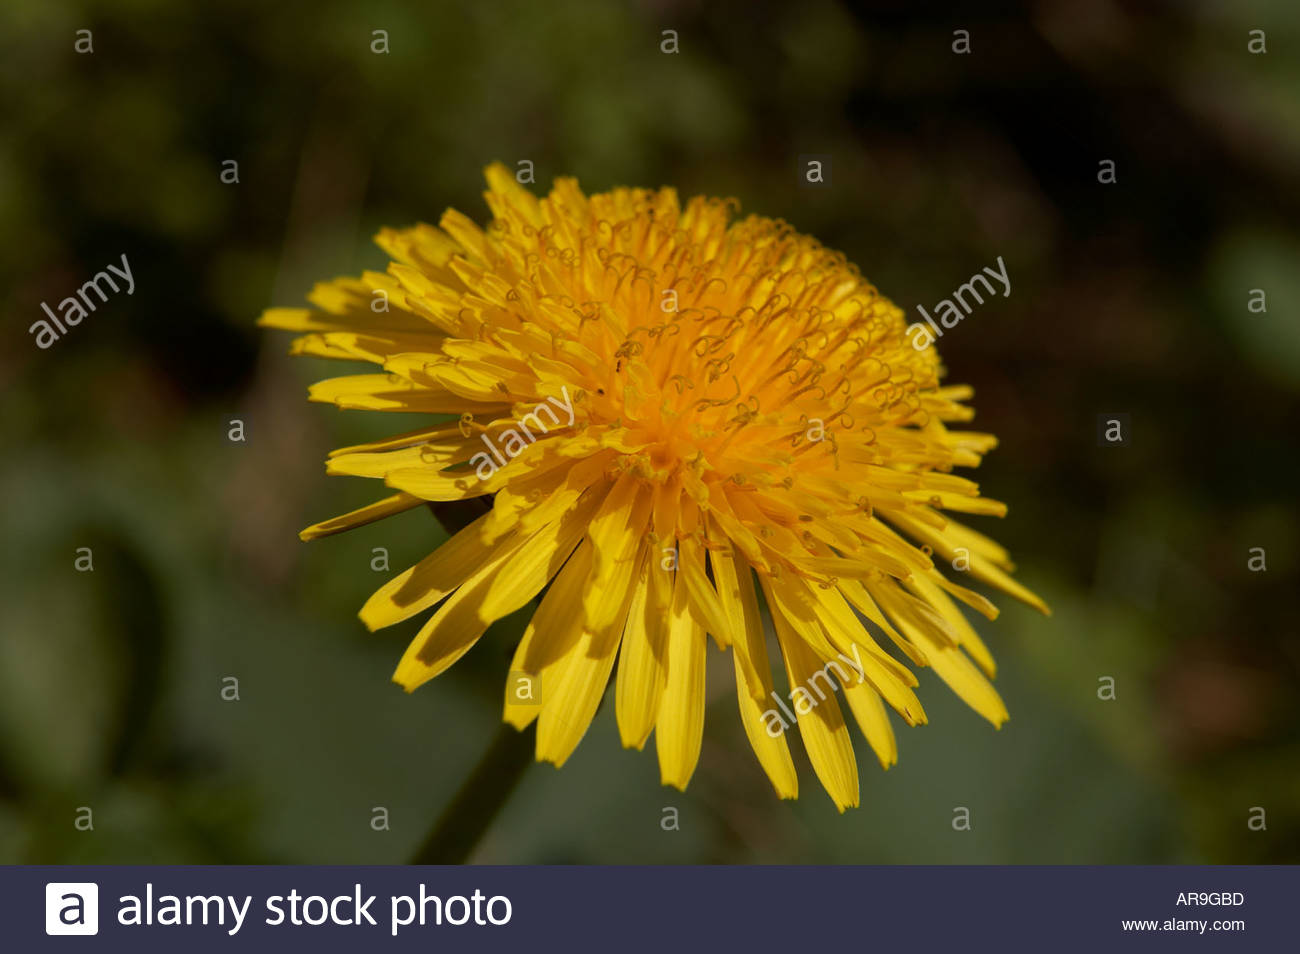dandelion: (338, 176, 1017, 764)
